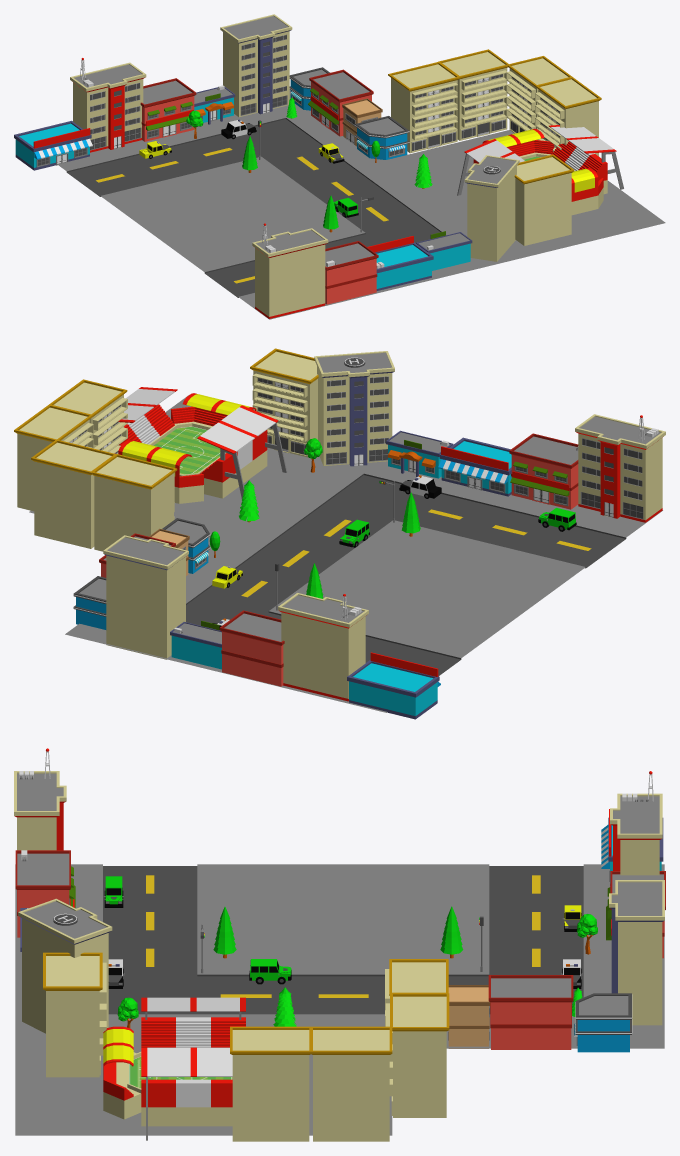
The model's file is City Low Polly.fbx.
The picture shows the model from 3 angles, top to bottom: view 1: azimuth 30°, elevation 25°; view 2: azimuth 150°, elevation 25°; view 3: azimuth 270°, elevation 25°; orthographic projection. The views are drawn at different scales.
Parts seen in each view (by area): view 1: Plane.006, Helly.003, Helly.001, Helly.004, Cube.072, Cube.068, Helly.002, Cube.071, Cube.069, Cube.021, Cube.070, Cube.090 (+17 smaller); view 2: Plane.006, Helly.003, Helly.002, Helly.001, Helly.004, Cube.071, Cube.072, Cube.068, Cube.090, Cube.098, Cube.070, Cube.021 (+22 smaller); view 3: Plane.006, Cube.069, Cube.070, Cube.068, Cube.071, Helly.003, Cube.076, Helly.002, Helly.004, Helly.001, Cube.075, Cube.021 (+15 smaller).
Part boxes in pixels (box(x1,y1,x2,y2)): Plane.006: box(58, 89, 665, 319); Helly.003: box(220, 14, 292, 117); Helly.001: box(252, 228, 328, 318); Helly.004: box(70, 62, 146, 152); Cube.072: box(388, 62, 460, 153); Cube.068: box(514, 154, 574, 245); Helly.002: box(464, 155, 519, 261); Cube.071: box(438, 49, 508, 140); Cube.069: box(535, 77, 601, 156); Cube.021: box(325, 241, 378, 304); Cube.070: box(506, 56, 572, 133); Cube.090: box(140, 78, 196, 141); Plane.006: box(29, 395, 662, 712); Helly.003: box(103, 535, 188, 659); Helly.002: box(314, 351, 394, 466); Helly.001: box(575, 414, 665, 522); Helly.004: box(278, 593, 368, 701); Cube.071: box(31, 439, 116, 548); Cube.072: box(91, 454, 177, 551); Cube.068: box(250, 348, 318, 457); Cube.090: box(219, 610, 284, 686); Cube.098: box(347, 660, 439, 719); Cube.070: box(14, 404, 93, 511); Cube.021: box(509, 433, 578, 509); Plane.006: box(15, 864, 664, 1135); Cube.069: box(230, 1026, 312, 1141); Cube.070: box(310, 1026, 392, 1141); Cube.068: box(43, 952, 106, 1077); Cube.071: box(385, 993, 449, 1117); Helly.003: box(609, 880, 664, 1025); Cube.076: box(488, 975, 573, 1049); Helly.002: box(18, 898, 112, 1033); Helly.004: box(610, 793, 662, 875); Helly.001: box(14, 771, 66, 850); Cube.075: box(575, 993, 632, 1052); Cube.021: box(15, 850, 70, 937).
Size of the model in its own units: 6190 by 1198 by 5760.
60 materials, 4 textured.
